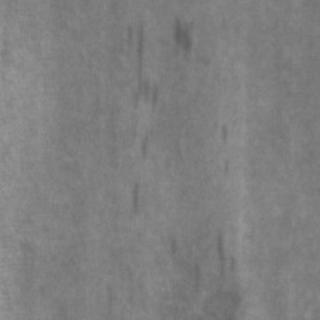inclusion: (117, 20, 161, 111), (182, 227, 238, 297), (164, 12, 196, 61), (122, 174, 146, 222)
